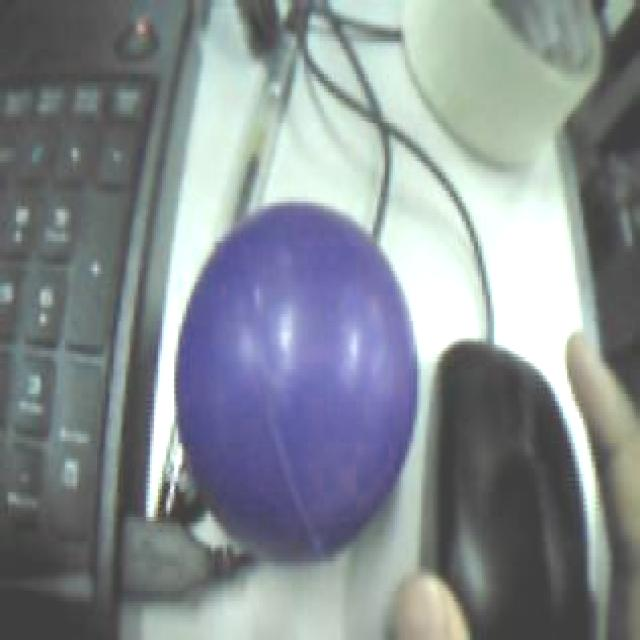BallPurple: (172, 201, 418, 564)
